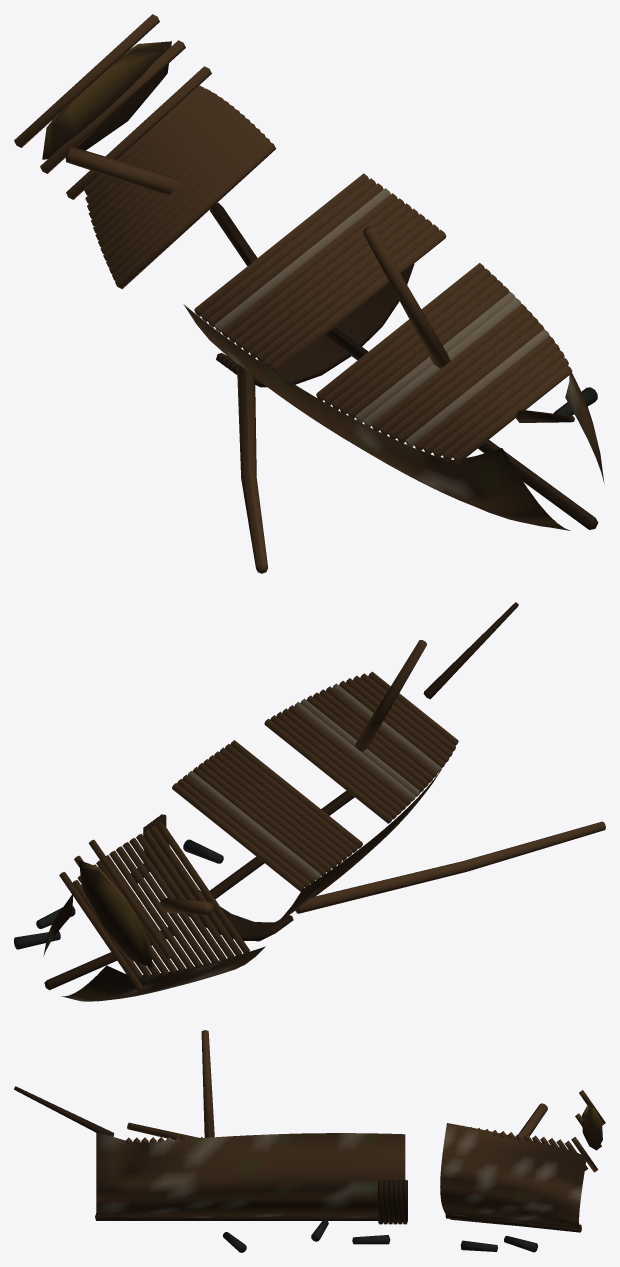
Rendered from wreck_galleon.glb.
3 views of the same model, one above another, from view 1: azimuth 30°, elevation 25°; view 2: azimuth 150°, elevation 25°; view 3: azimuth 270°, elevation 25° (orthographic). The views are drawn at different scales.
Visible parts, largest first — view 1: wreck_galleon; view 2: wreck_galleon; view 3: wreck_galleon.
Boxes of the visible parts, bbox=[...] form: wreck_galleon: bbox=[14, 14, 604, 573]; wreck_galleon: bbox=[14, 602, 605, 1001]; wreck_galleon: bbox=[14, 1030, 605, 1252].
Bounding box in the file's own units: 18.01 × 11.43 × 36.4.
